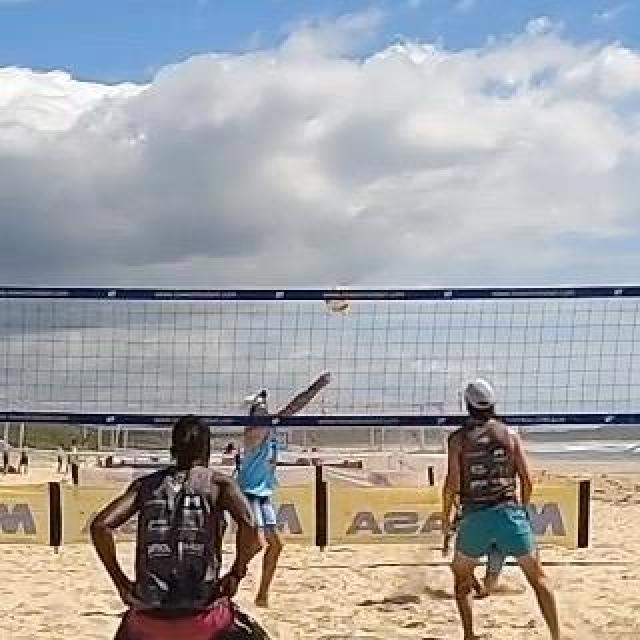volleyball: (324, 283, 350, 313)
